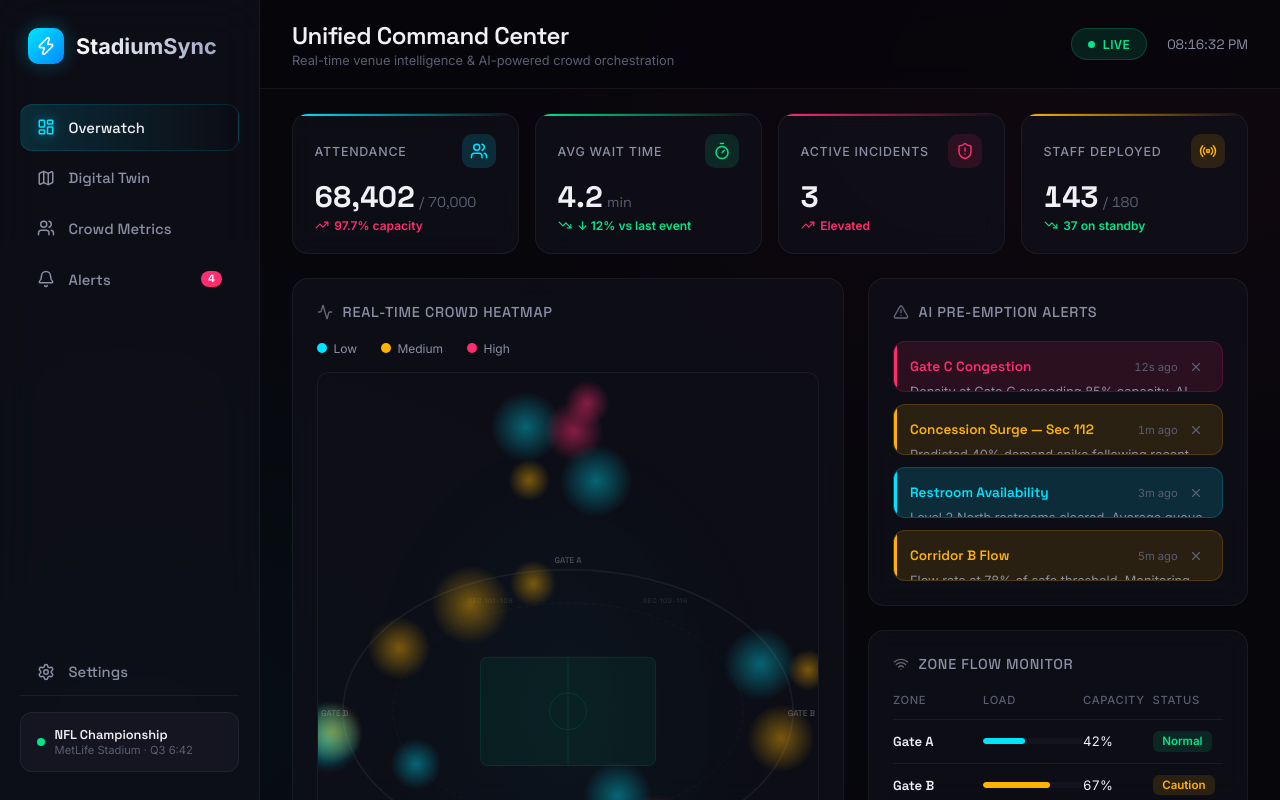
Scenario: StadiumSync App › switches to Digital Twin view on nav click
Click the button "Digital Twin" at coordinates (94, 178), box [37,168,150,187]
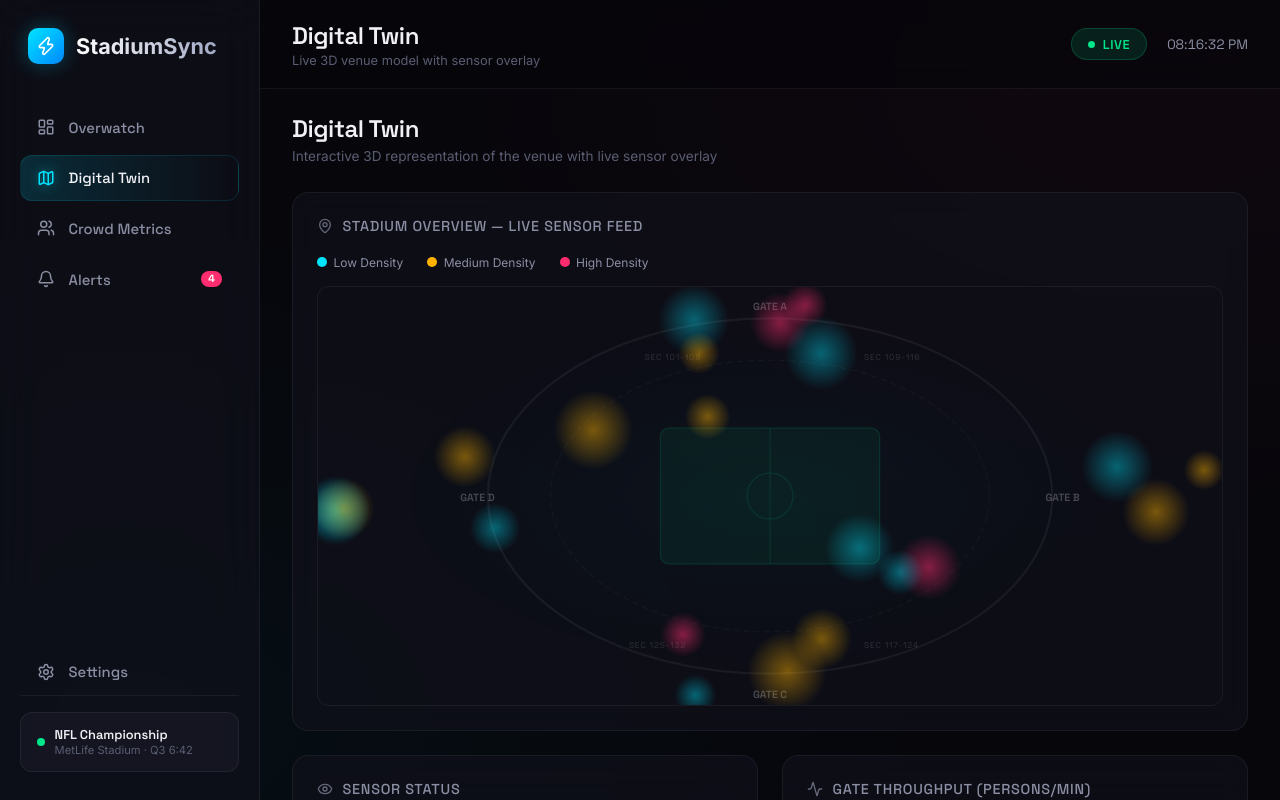
Check: the text "Stadium Overview — Live Sensor Feed" is shown, box [317,217,643,235]
